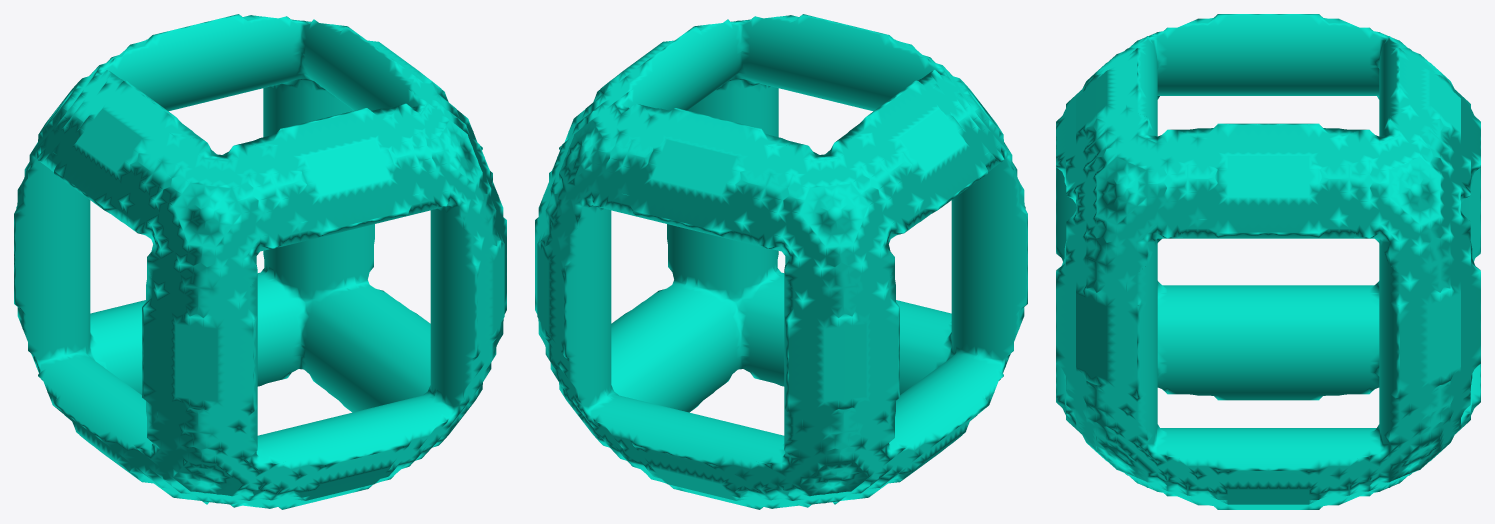
File: ifs_mandelbox_fractal_mesh_1780734546497.glb
3 renders of one model, left to right at view 1: azimuth 30°, elevation 25°; view 2: azimuth 150°, elevation 25°; view 3: azimuth 270°, elevation 25°, orthographic.
Parts seen in each view (by area): view 1: mandelbox_ft1_mi1; view 2: mandelbox_ft1_mi1; view 3: mandelbox_ft1_mi1.
Part boxes in pixels (x1,y1,x2,y2): mandelbox_ft1_mi1: (14,14,506,509); mandelbox_ft1_mi1: (535,14,1027,509); mandelbox_ft1_mi1: (1056,14,1480,509).
Size of the model in its own units: 3.66 by 3.66 by 3.66.
